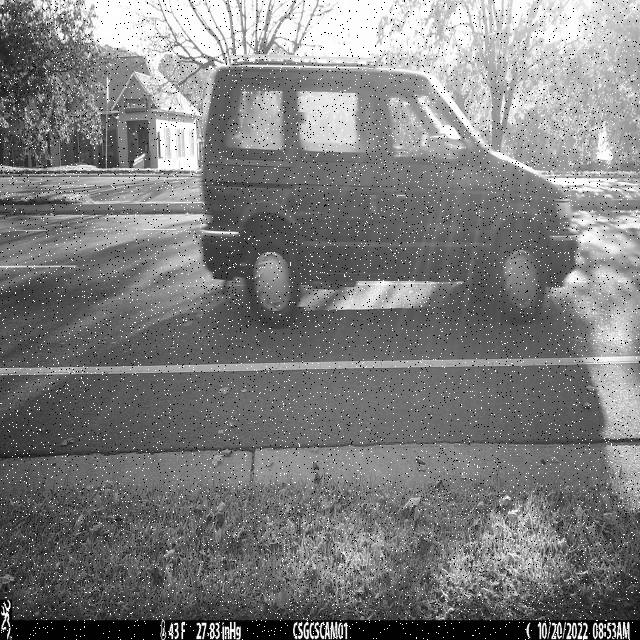Bus: (199, 55, 578, 329)
